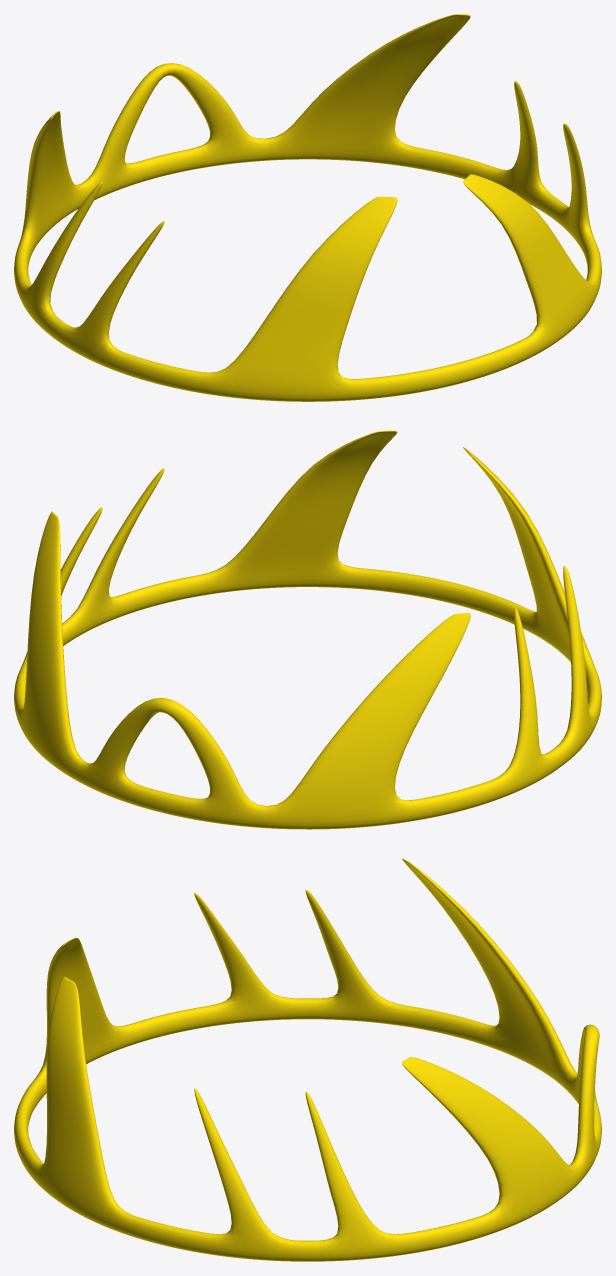
The model's file is Crown.fbx.
The picture shows the model from 3 angles, top to bottom: view 1: azimuth 30°, elevation 25°; view 2: azimuth 150°, elevation 25°; view 3: azimuth 270°, elevation 25°; orthographic projection.
Parts seen in each view (by area): view 1: Crown; view 2: Crown; view 3: Crown.
Part boxes in pixels (x1,y1,x2,y2): Crown: [14, 14, 601, 401]; Crown: [14, 430, 601, 829]; Crown: [14, 858, 601, 1261].
Size of the model in its own units: 7.96 by 2.69 by 7.96.
